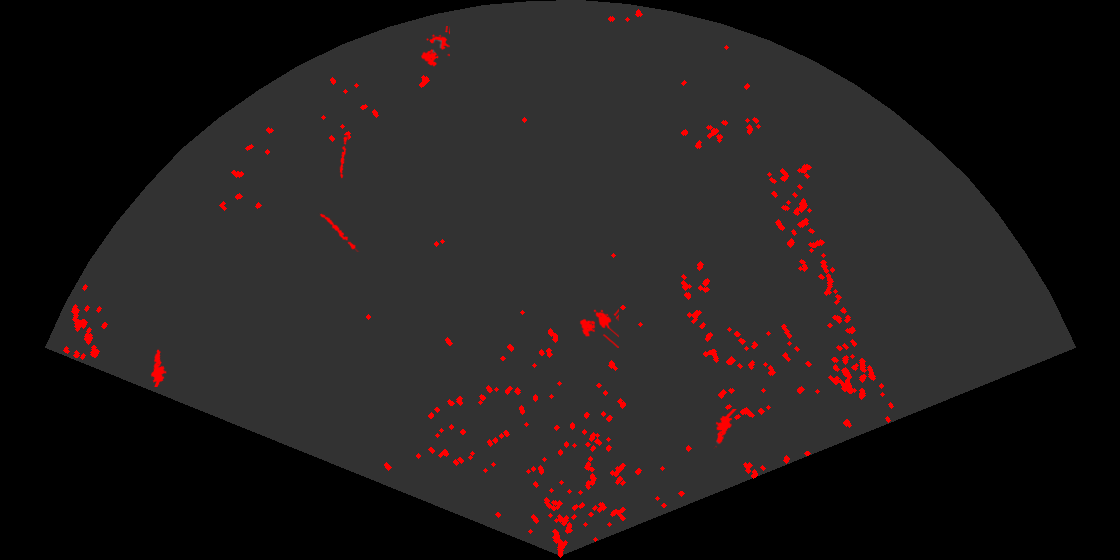cage: (578, 307, 619, 348), (420, 26, 450, 68)
chain: (318, 212, 361, 252), (338, 135, 349, 179)
frogman: (712, 409, 739, 449), (149, 347, 168, 387)
